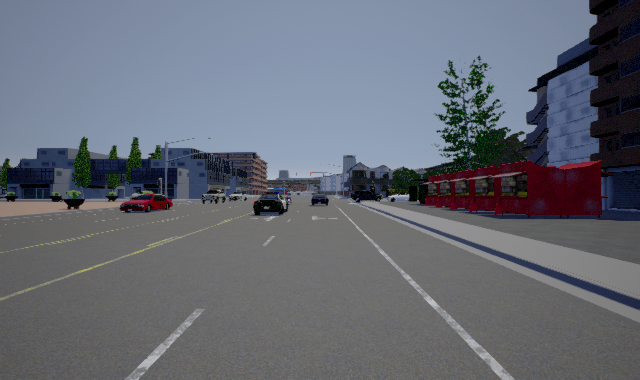vehicle: (119, 192, 173, 213), (253, 192, 291, 215), (201, 189, 226, 204), (308, 192, 331, 207), (227, 191, 248, 202)
